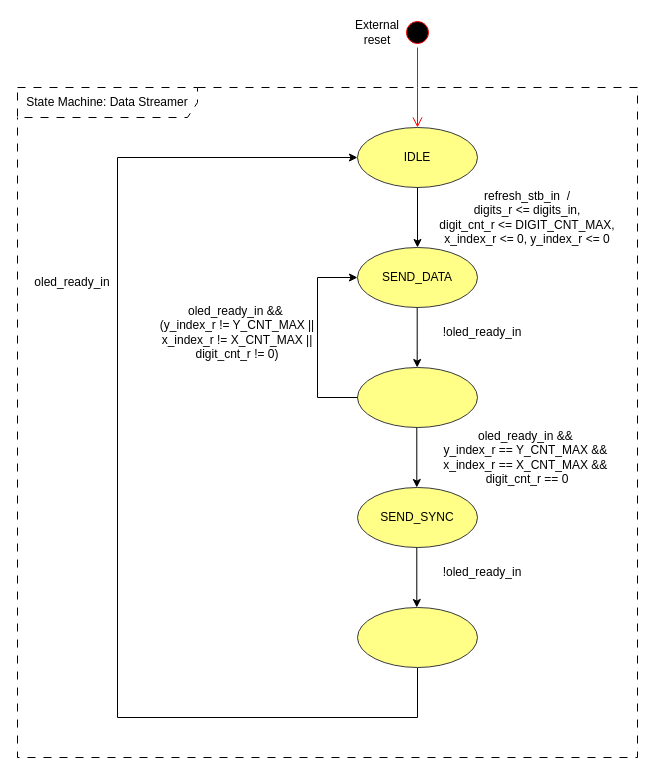
Image size: 655x775. Some labels were removed from this diagram. Here are the shapes that lost their labels. From the top down, the centre of each, then its label:
At [417,397]: "WAIT_FOR_READY".
At [417,637]: "WAIT_FOR_SYNC".
